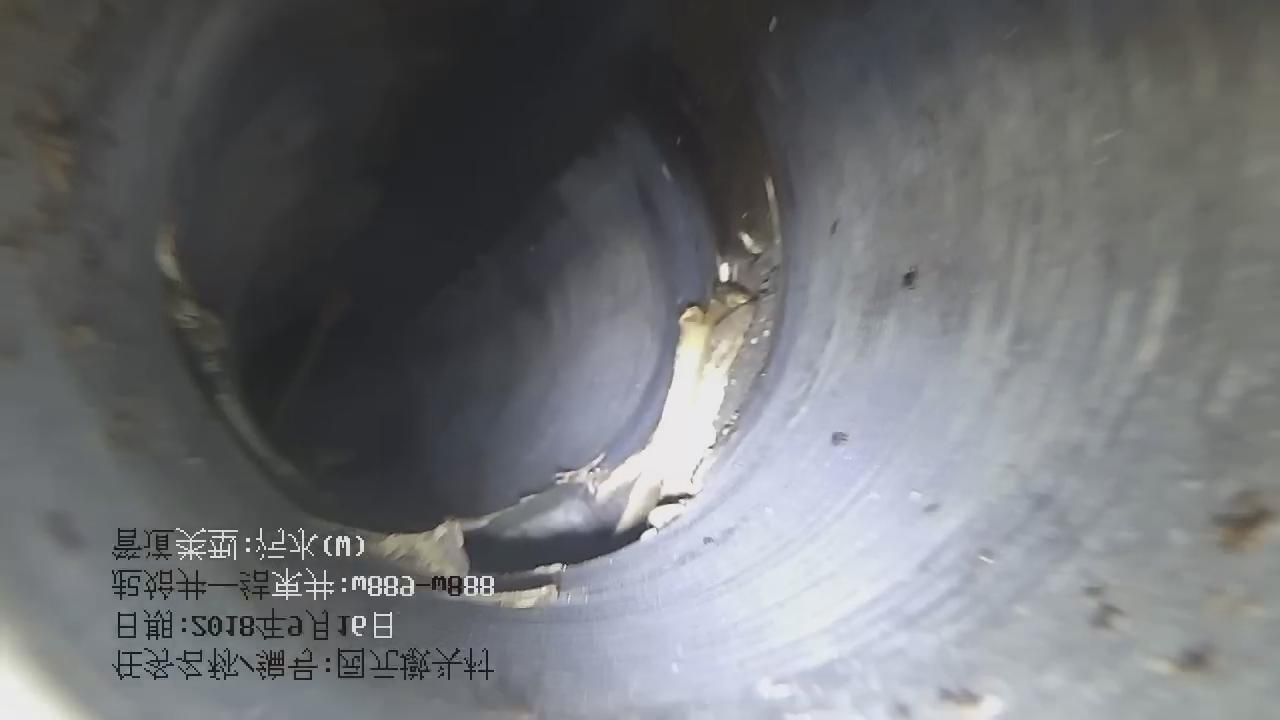PL: (263, 175, 806, 614)
